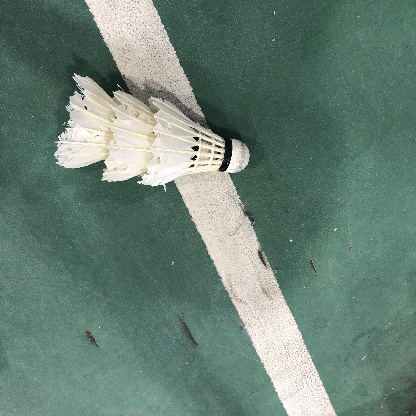ball_single: (54, 73, 249, 187)
